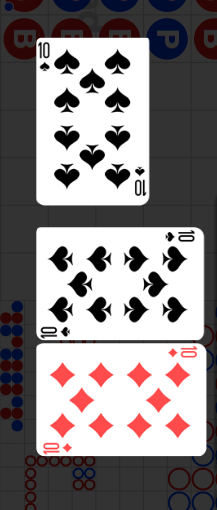10D: (42, 441, 74, 453)
10S: (39, 41, 53, 75), (163, 229, 196, 243)
